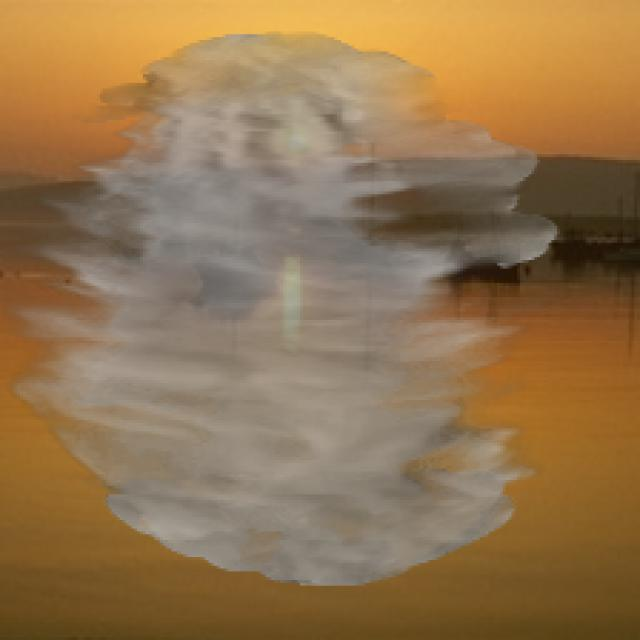smoke: (3, 31, 560, 586)
